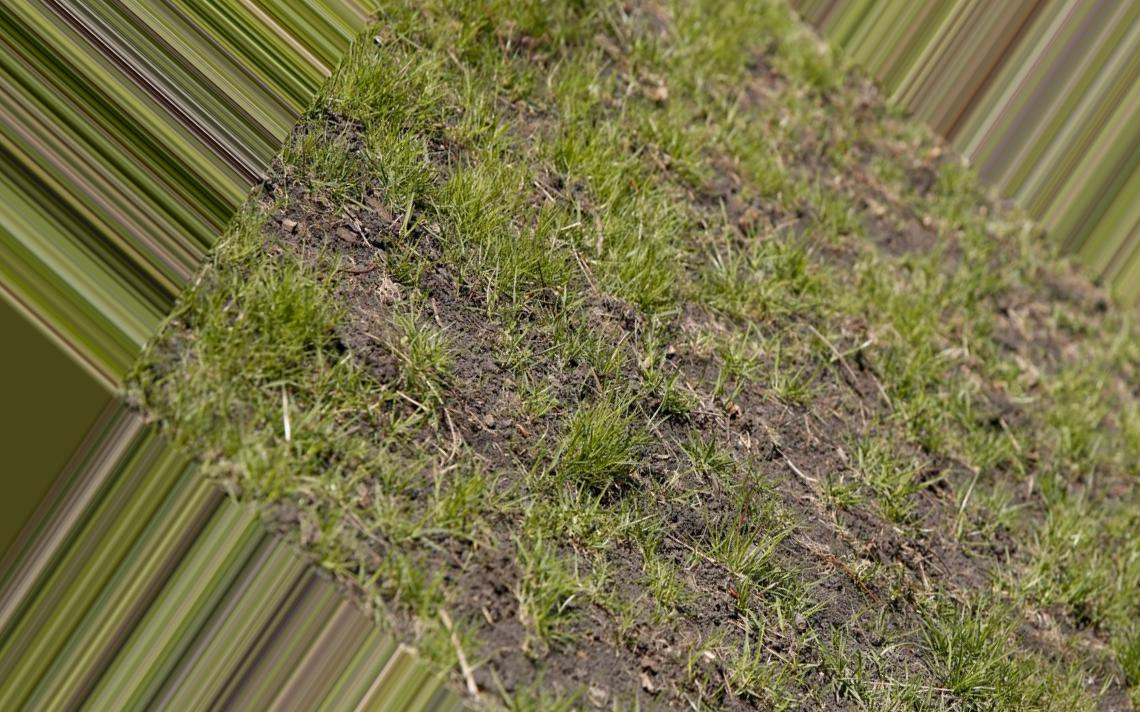patch: (680, 330, 927, 570), (363, 210, 592, 426), (878, 188, 1065, 375)
